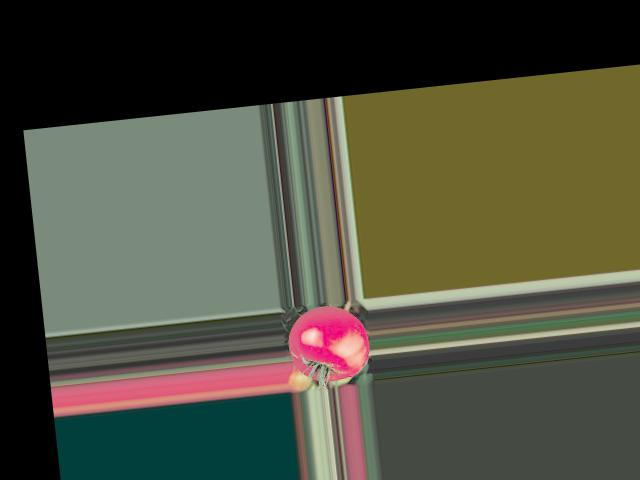tomato: (286, 301, 372, 384)
